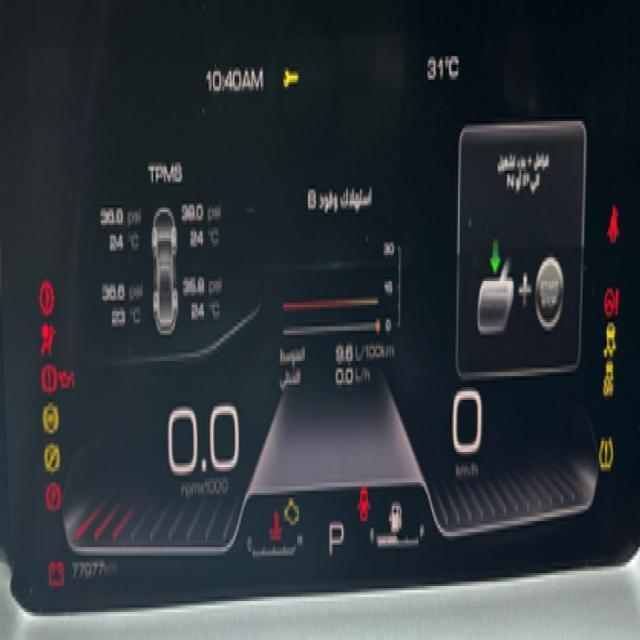Electronic Power Steering: (604, 282, 622, 324)
High Engine Coolant Temperature: (268, 507, 284, 545)
